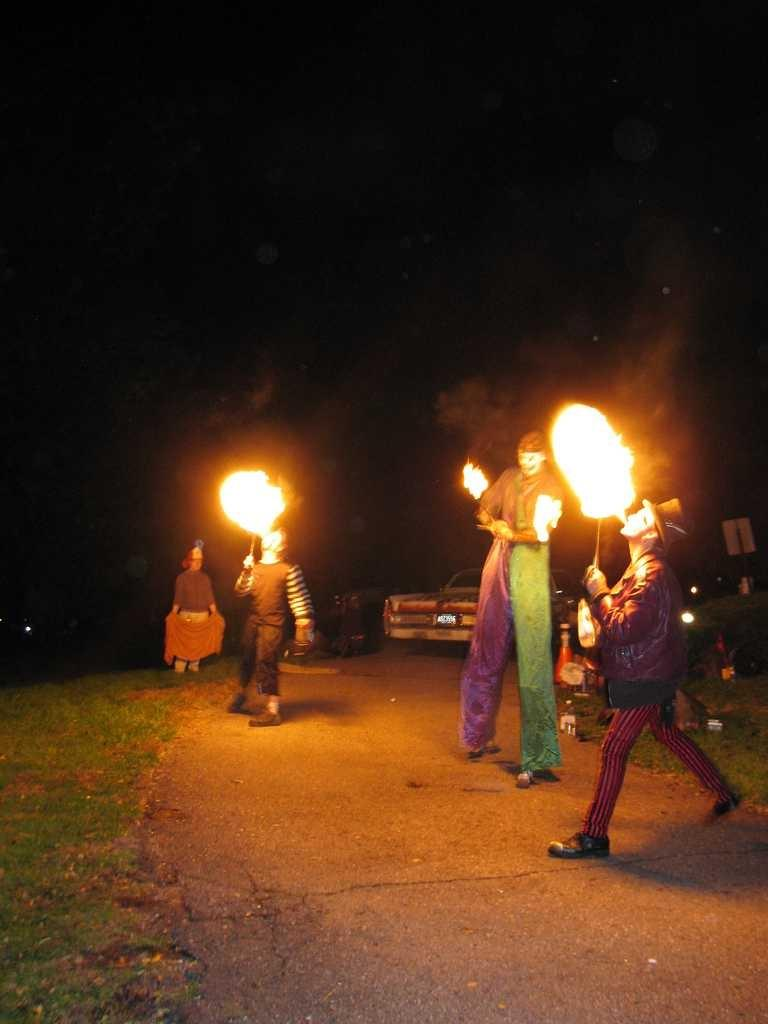fire: (537, 391, 675, 533), (211, 464, 305, 549)
